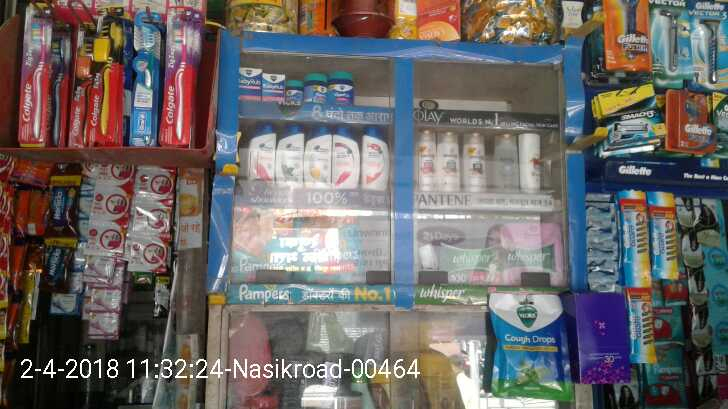vicks: (238, 62, 353, 107)
